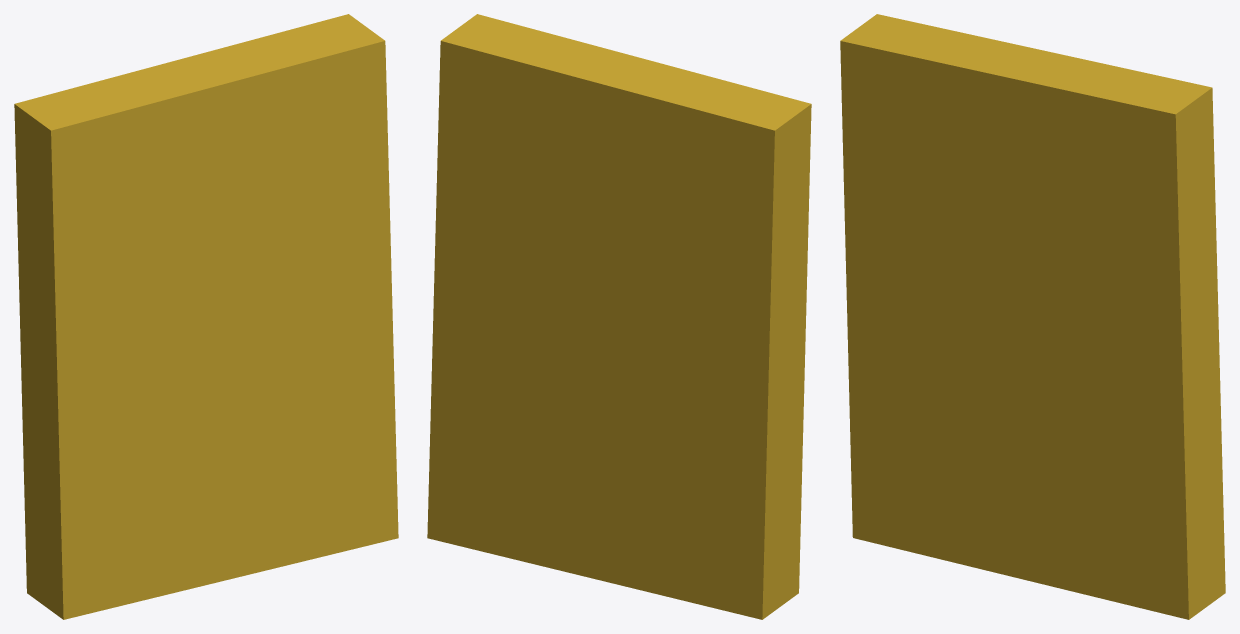
3 views of the same model, side by side, from view 1: azimuth 30°, elevation 25°; view 2: azimuth 150°, elevation 25°; view 3: azimuth 330°, elevation 25° (orthographic).
Parts seen in each view (by area): view 1: geometry_0; view 2: geometry_0; view 3: geometry_0.
Part boxes in pixels (<box>): geometry_0: <box>14,14,398,619</box>; geometry_0: <box>427,14,811,619</box>; geometry_0: <box>840,14,1225,619</box>.
Size of the model in its own units: 16.44 by 22.62 by 3.
